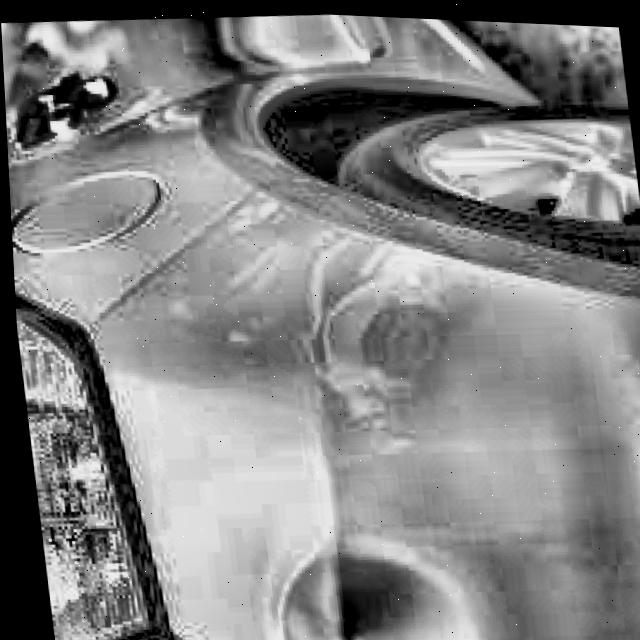bumper_dent: (274, 535, 482, 640)
